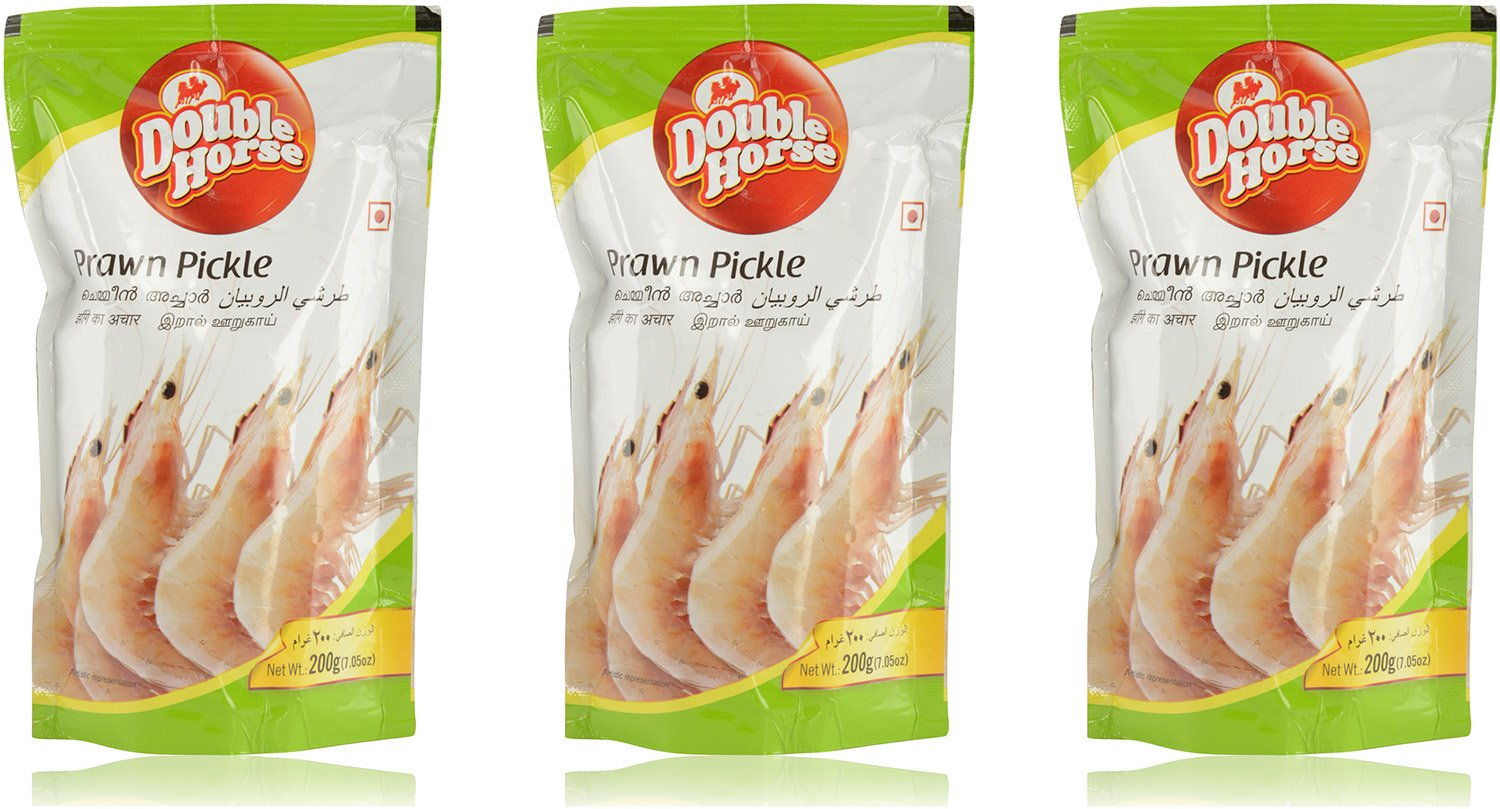nonveg_red: (1421, 200, 1448, 232), (899, 200, 925, 232), (367, 200, 392, 232)
